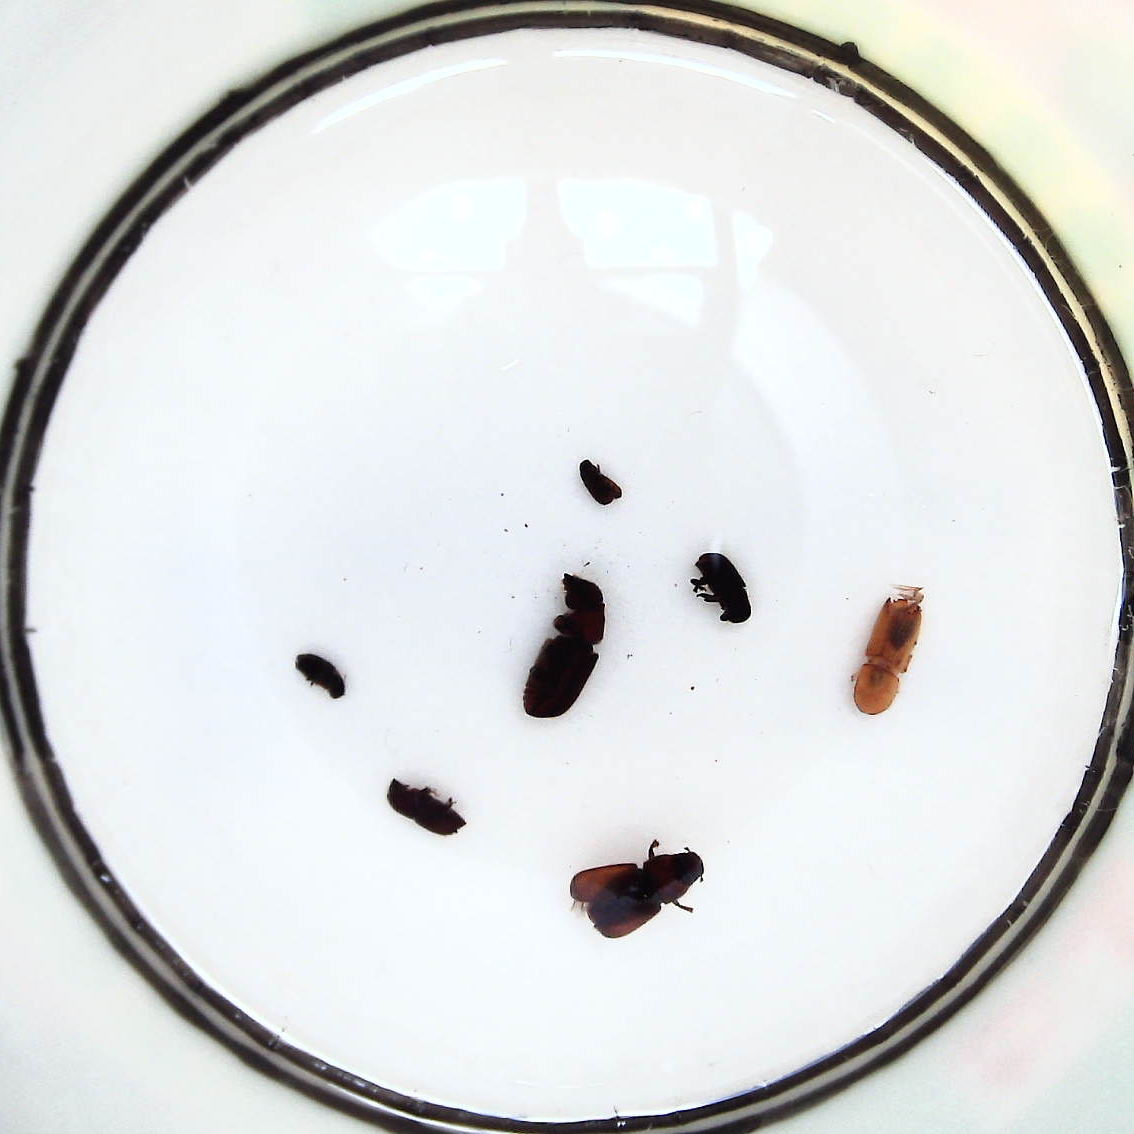Boerner: (853, 595, 923, 716)
Leconte: (570, 851, 705, 939), (523, 574, 604, 718)
acuminatus: (295, 653, 345, 698)
armandi: (696, 553, 751, 624)
coleoptera: (579, 459, 622, 505)
linnaeus: (387, 777, 466, 836)
